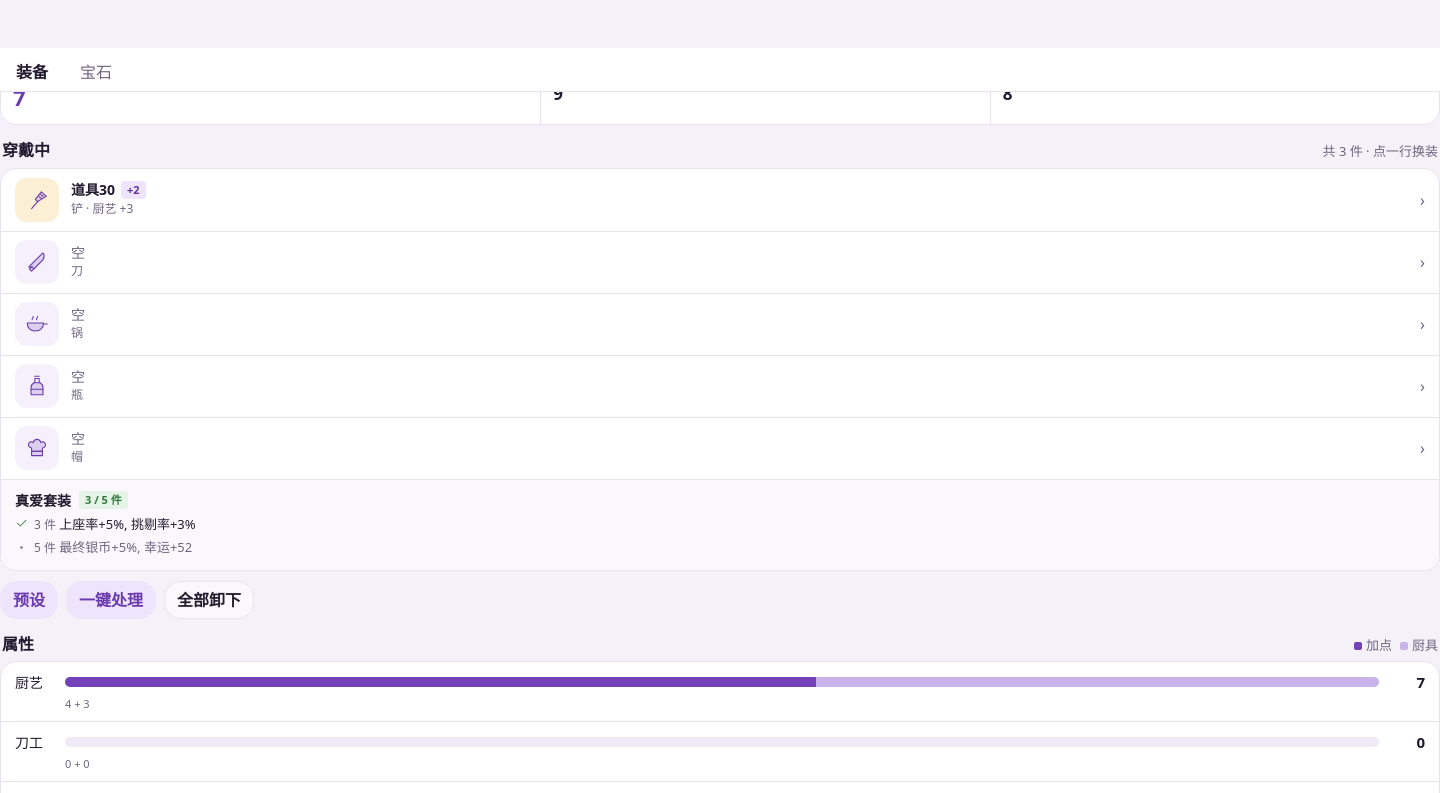
Test: EquipView › 穿戴中一个部位一行，名字写全不截成“…”；点一行弹出这个部位的厨具，穿着的排最前（界面改版 P7）
Click the button with test id "slot-1": (37, 200) x1=1 y1=168 x2=1439 y2=230
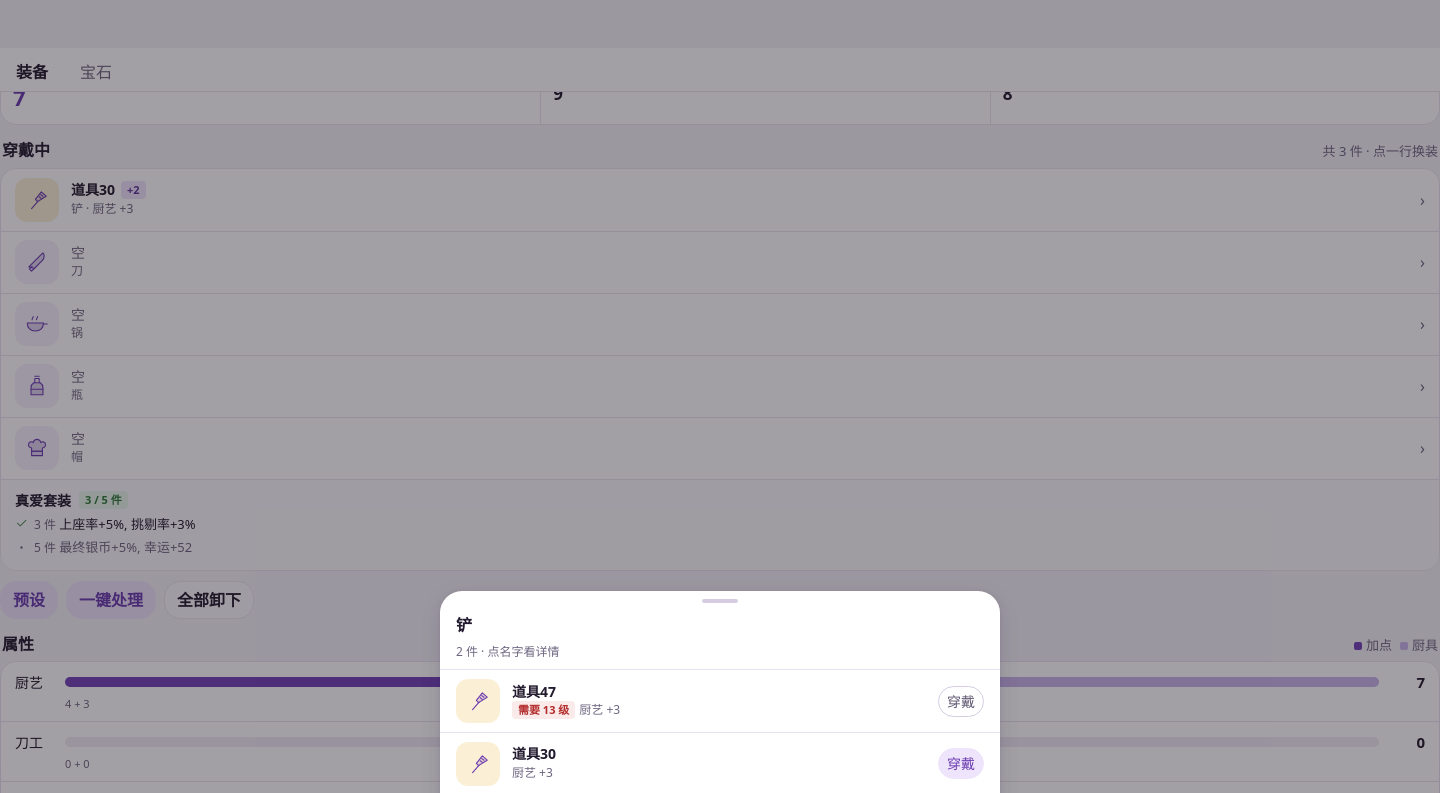
Now the dialog shows "铲", box x1=456 y1=614 x2=472 y2=636
Now the link to "/rest/equip/3" is shown, box x1=512 y1=744 x2=556 y2=781
